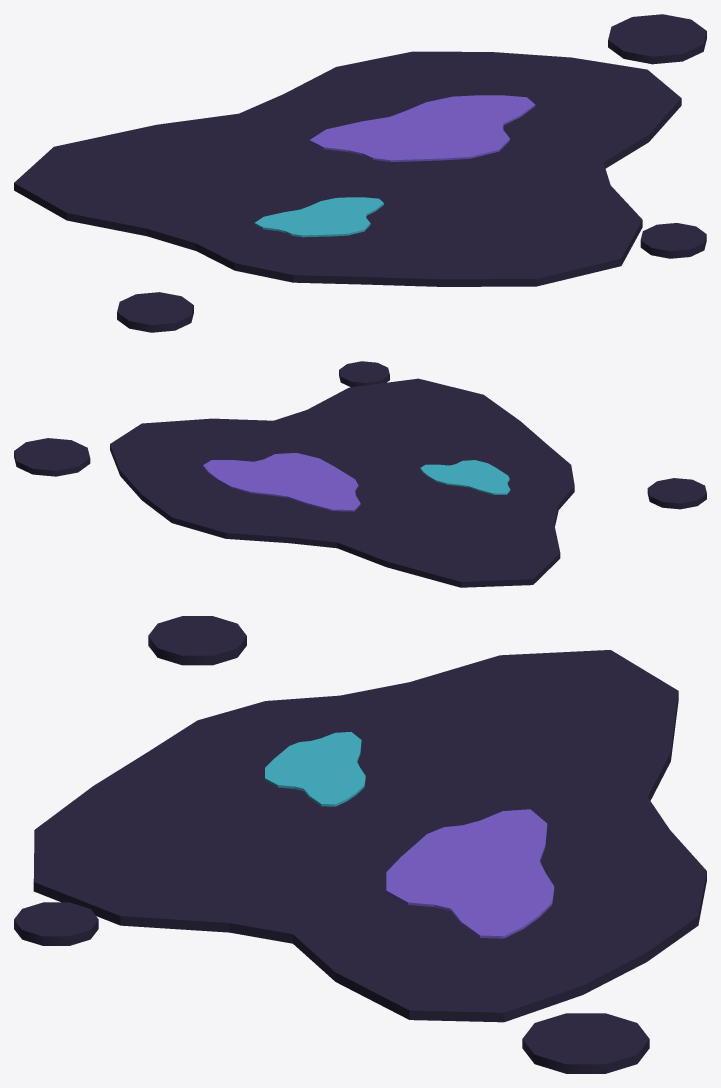
Rendered from item_oil.glb.
3 renders of one model, top to bottom at view 1: azimuth 30°, elevation 25°; view 2: azimuth 150°, elevation 25°; view 3: azimuth 270°, elevation 25°, orthographic. The views are drawn at different scales.
Visible parts, largest first — view 1: item_oil; view 2: item_oil; view 3: item_oil.
Boxes of the visible parts, x1=… form: item_oil: x1=14, y1=14, x2=706, y2=332; item_oil: x1=14, y1=361, x2=706, y2=587; item_oil: x1=14, y1=616, x2=706, y2=1073.
Bounding box in the file's own units: 3 × 0.0375 × 1.96.
